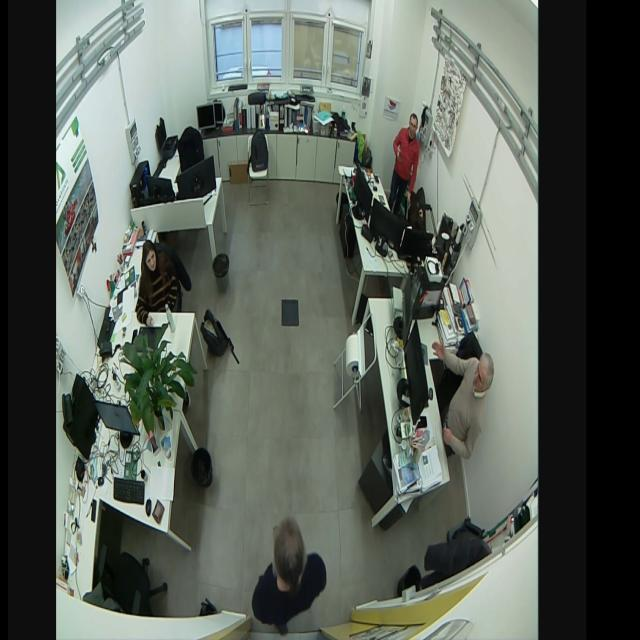Persona: (250, 512, 333, 633), (430, 338, 497, 462), (136, 234, 180, 330), (389, 111, 421, 209)
